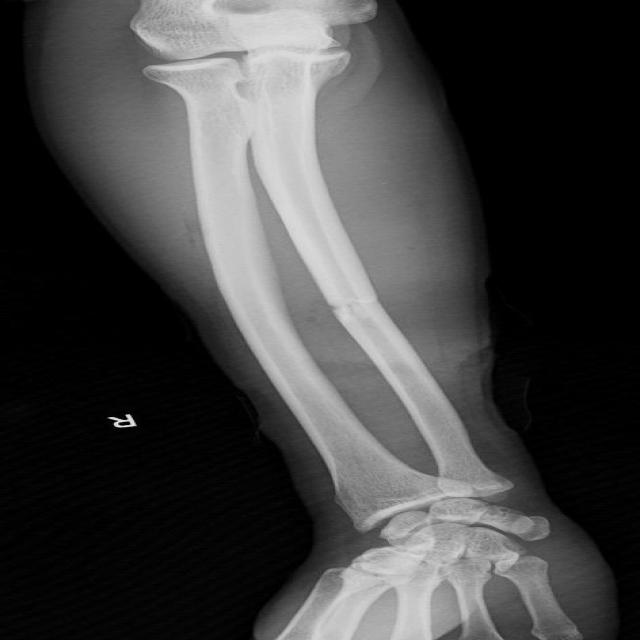fracture: (324, 292, 387, 316)
